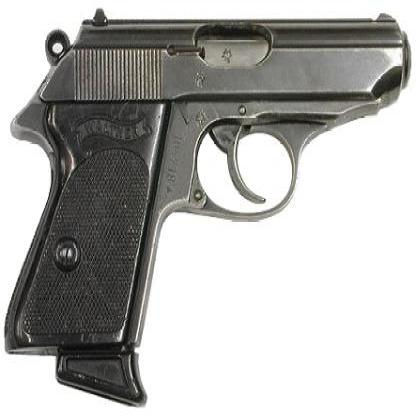pistol: (3, 12, 411, 404)
